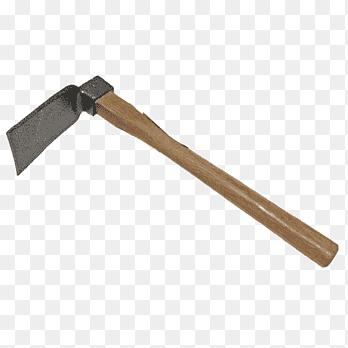HOUE: (5, 70, 348, 266)
